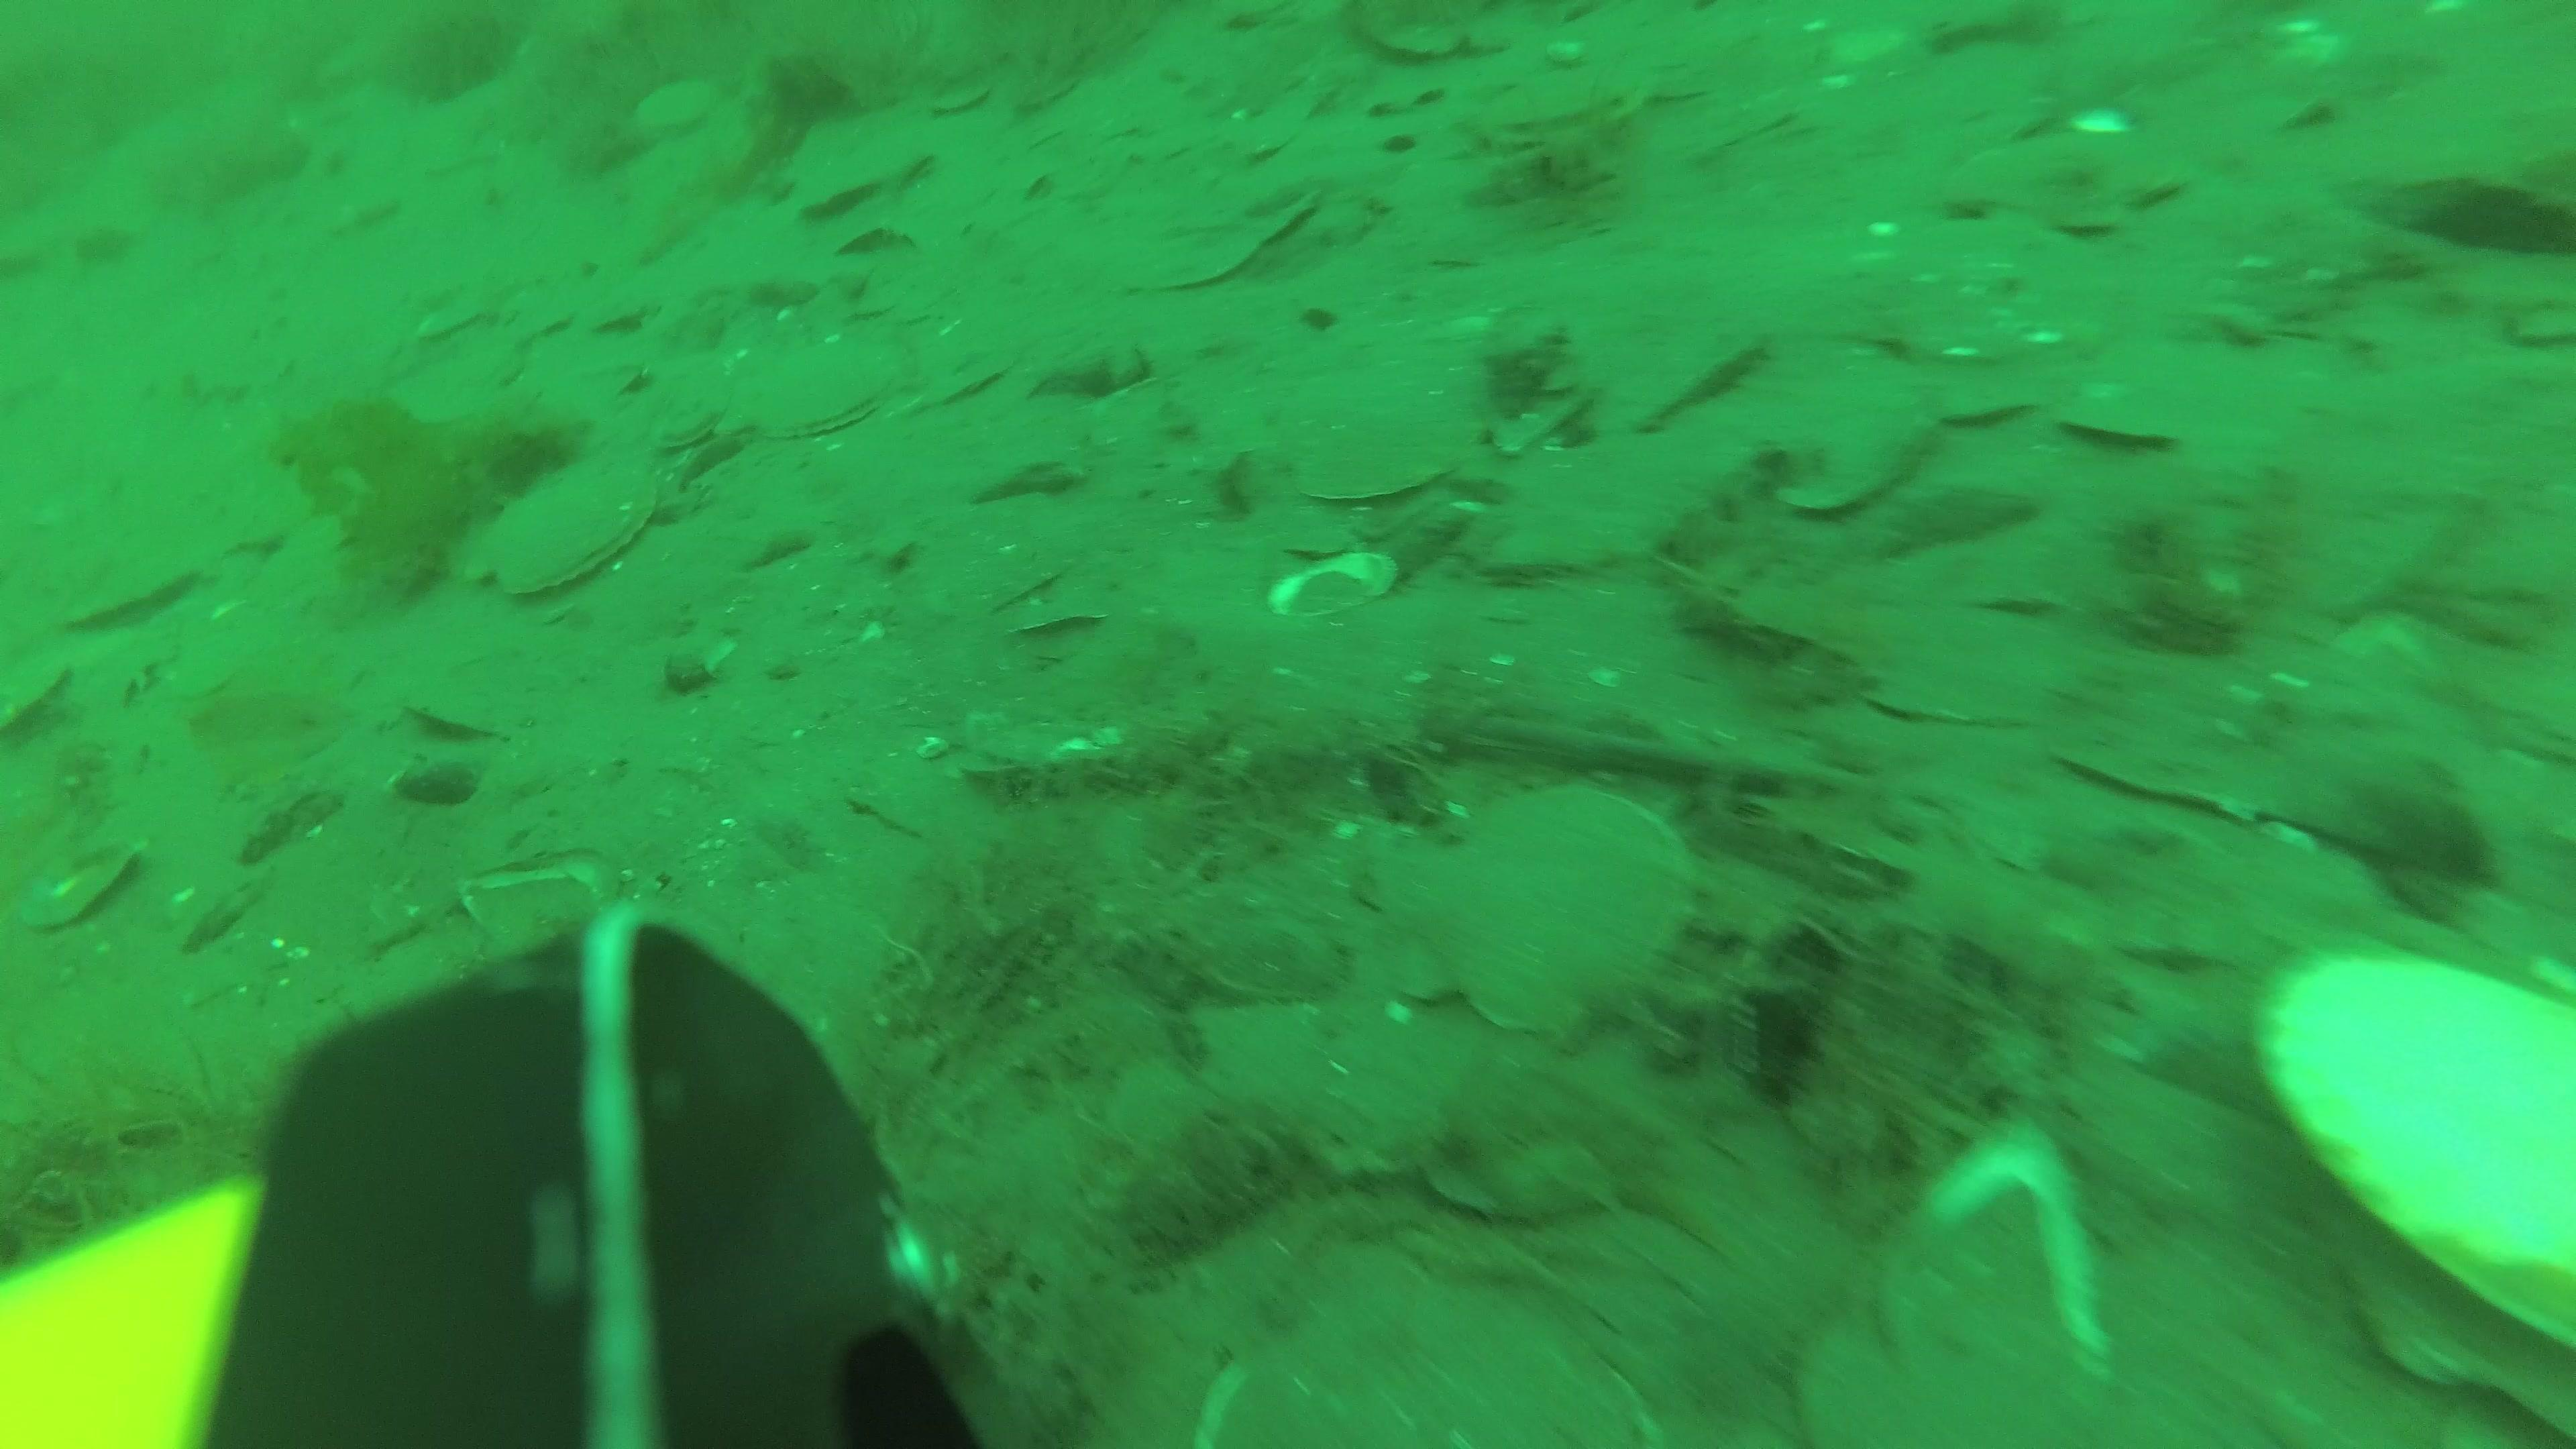scallop: (2263, 922, 2576, 1376), (1376, 775, 1697, 1040), (1189, 1284, 1663, 1449), (1283, 343, 1488, 497), (1762, 379, 1948, 527), (467, 467, 663, 607), (1615, 306, 1776, 432), (748, 338, 913, 449), (800, 133, 938, 225), (2058, 380, 2187, 472), (1909, 364, 2043, 444), (67, 557, 203, 633), (632, 73, 729, 145), (2, 663, 74, 759), (651, 398, 729, 451)
